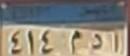1: (25, 30, 36, 55)
4: (39, 27, 54, 55), (9, 30, 23, 56)
alif: (109, 28, 122, 52)
daal: (89, 33, 104, 52)
meem: (66, 30, 83, 53)
